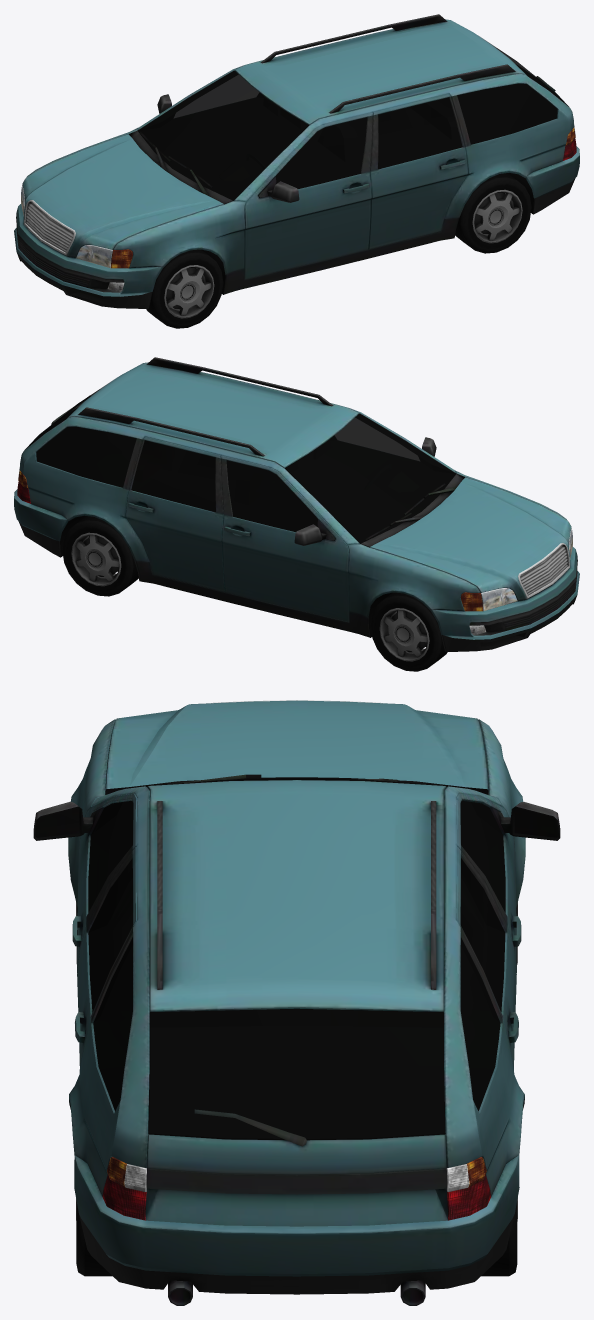
The model's file is gwagon.glb.
3 renders of one model, top to bottom at view 1: azimuth 30°, elevation 25°; view 2: azimuth 150°, elevation 25°; view 3: azimuth 270°, elevation 25°, orthographic. The views are drawn at different scales.
Parts seen in each view (by area): view 1: body, spin_RR, spin_FR; view 2: body, spin_RL, spin_FL; view 3: body, spin_FL, spin_FR.
Part boxes in pixels (left/top/right/bottom): body: left=14, top=14, right=579, bottom=308; spin_RR: left=146, top=249, right=225, bottom=328; spin_FR: left=455, top=173, right=531, bottom=253; body: left=14, top=357, right=579, bottom=651; spin_RL: left=368, top=592, right=447, bottom=671; spin_FL: left=62, top=516, right=138, bottom=596; body: left=33, top=700, right=560, bottom=1305; spin_FL: left=481, top=1197, right=517, bottom=1276; spin_FR: left=76, top=1198, right=112, bottom=1276.
Size of the model in its own units: 4.7 by 1.48 by 2.09.
4 materials, 3 textured.
